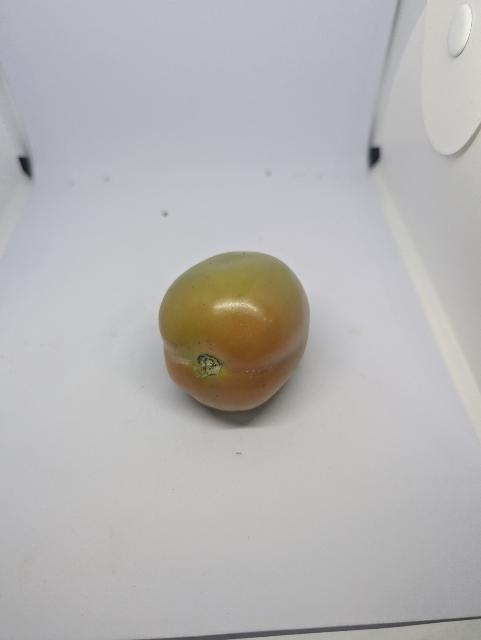breaker: (154, 245, 316, 417)
